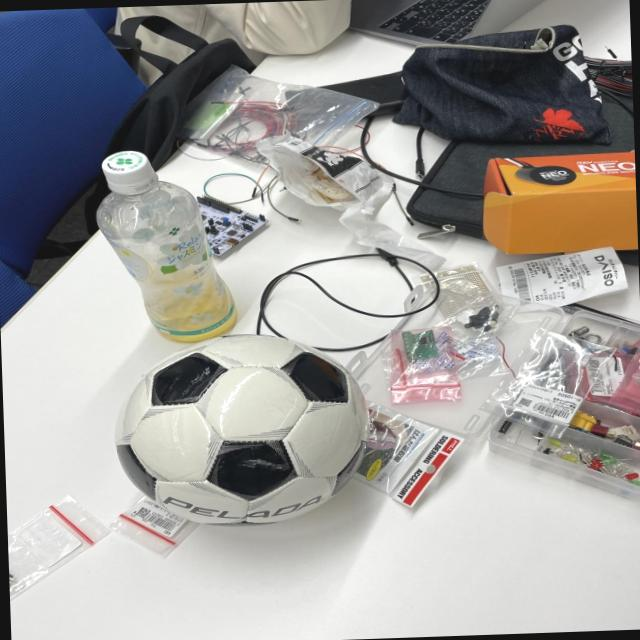Soccer Ball: (113, 330, 374, 530)
